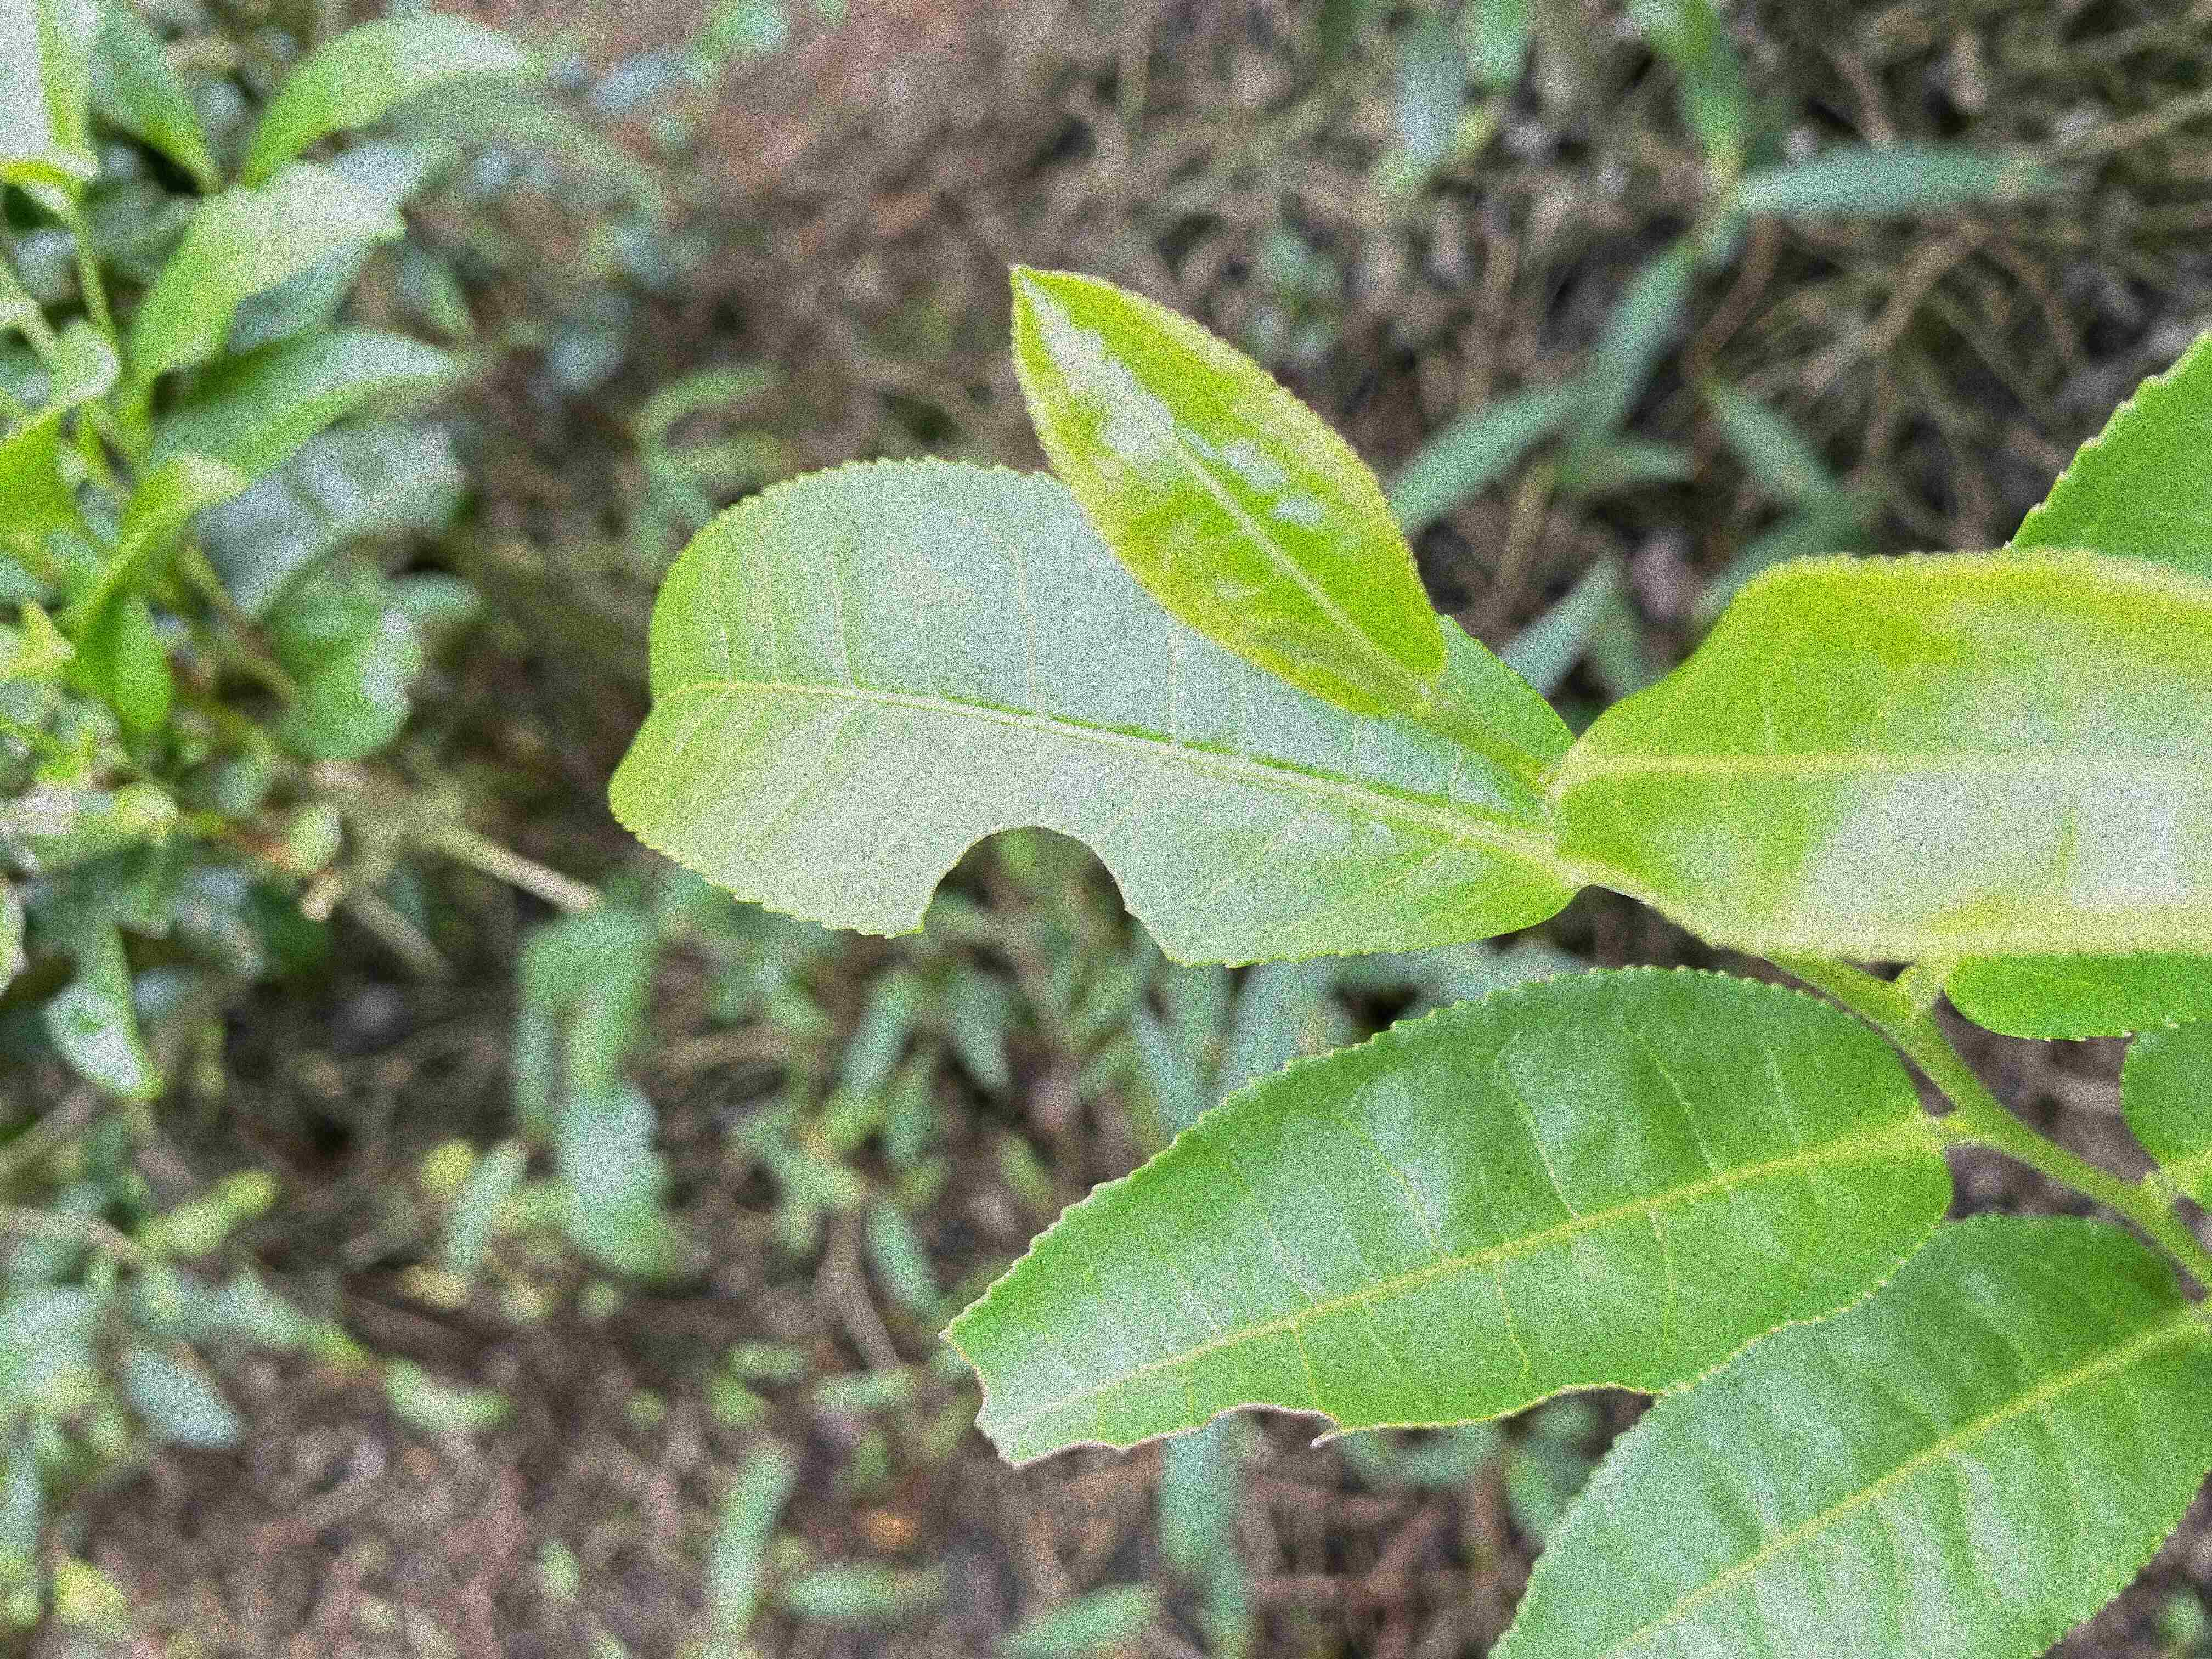chihuo_high: (934, 964, 1949, 1473)
chihuo_low: (604, 453, 1580, 974)
healthy: (1555, 544, 2212, 965), (1007, 261, 1453, 721)
